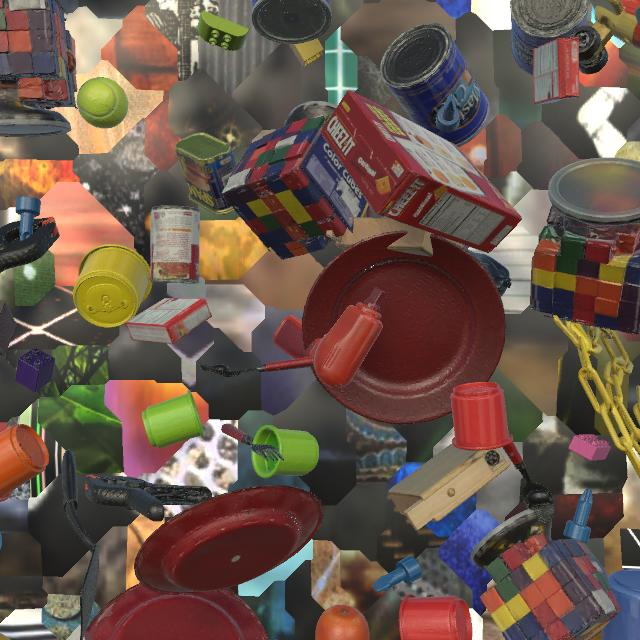ycb_002_master_chef_can: (380, 23, 490, 147), (510, 0, 591, 75), (251, 0, 332, 44)
ycb_003_cracker_box: (321, 90, 522, 253)
ycb_005_tomato_soup_can: (150, 205, 200, 283)
ycb_006_mustard_bottle: (0, 633, 11, 640)
ycb_009_gelatin_box: (124, 298, 212, 344), (533, 37, 580, 105)
ycb_010_potted_meat_can: (175, 132, 237, 215)
ycb_017_orange: (315, 605, 369, 640)
